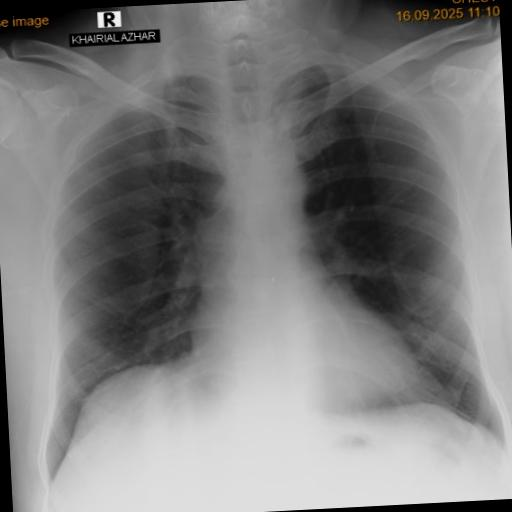kardiomegali: (13, 23, 512, 488)
